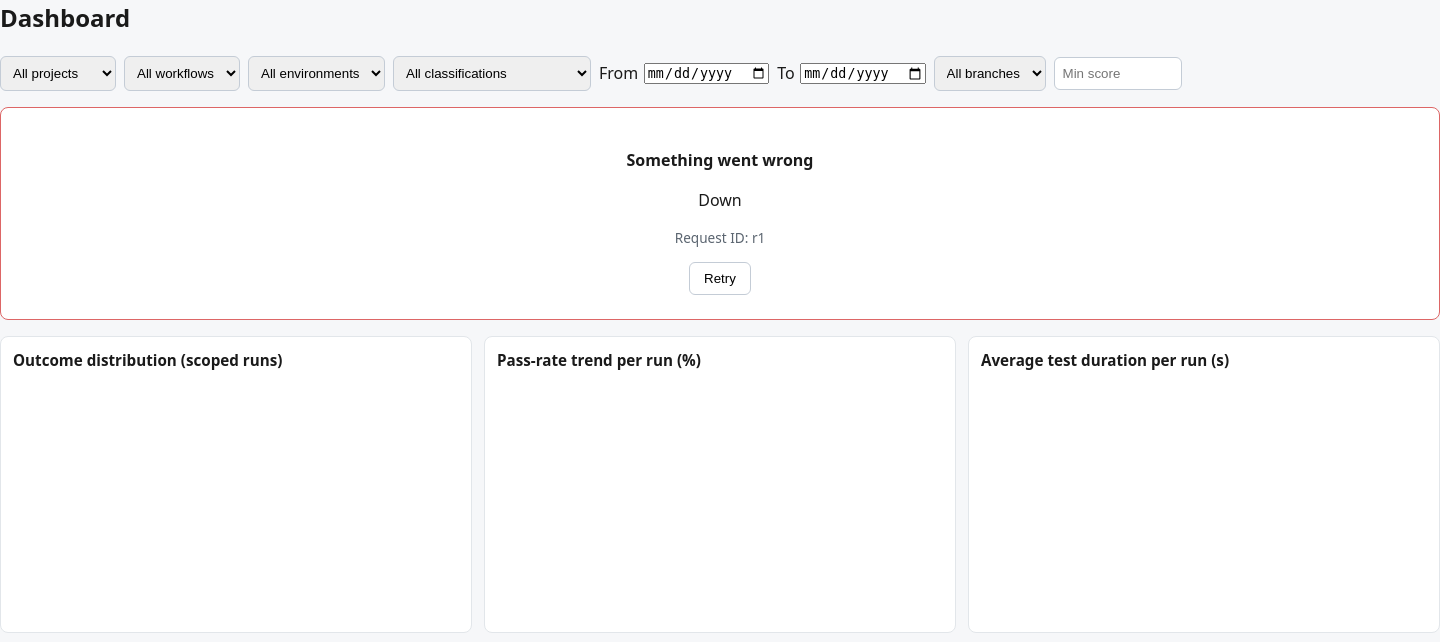
Test case: dashboard page › surfaces backend failures with retry
The width and height of the screenshot is (1440, 642).
Expected: the message shows "Down", [698,189,742,211]
Click the button "Retry" at (720, 278), box [689,262,751,295]
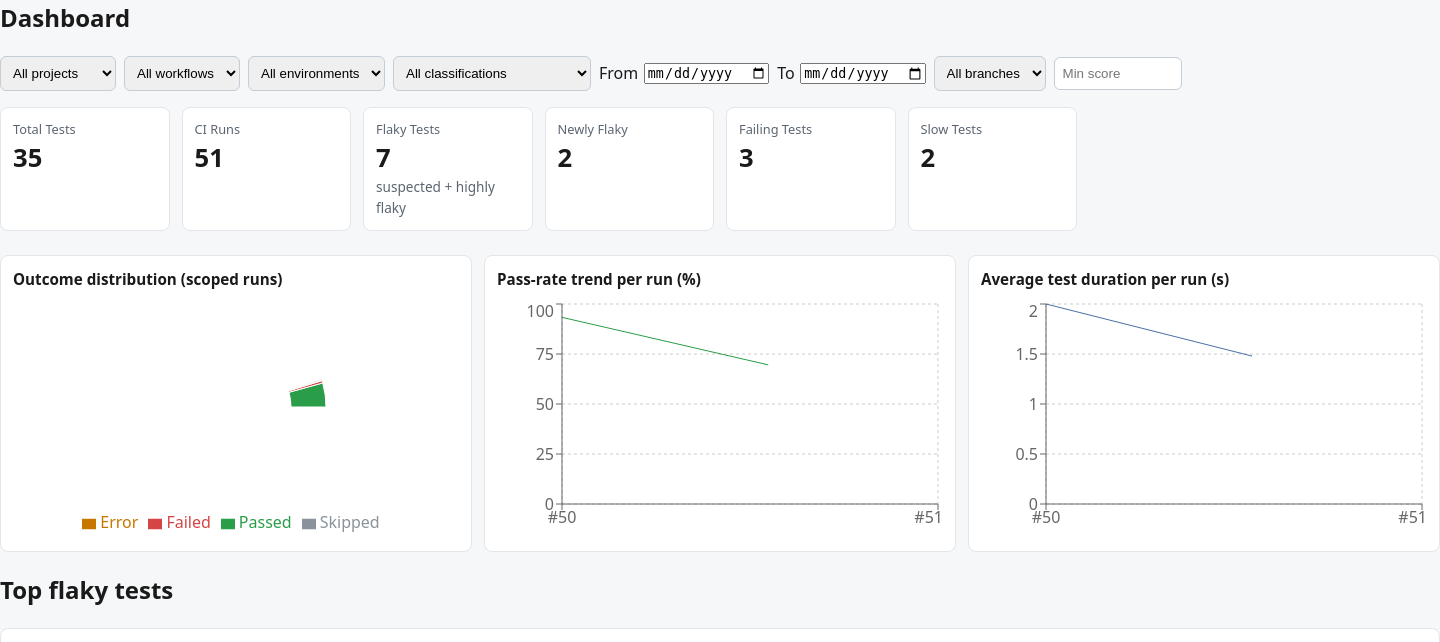
Expected: the text "51" is shown, [194,140,224,175]
